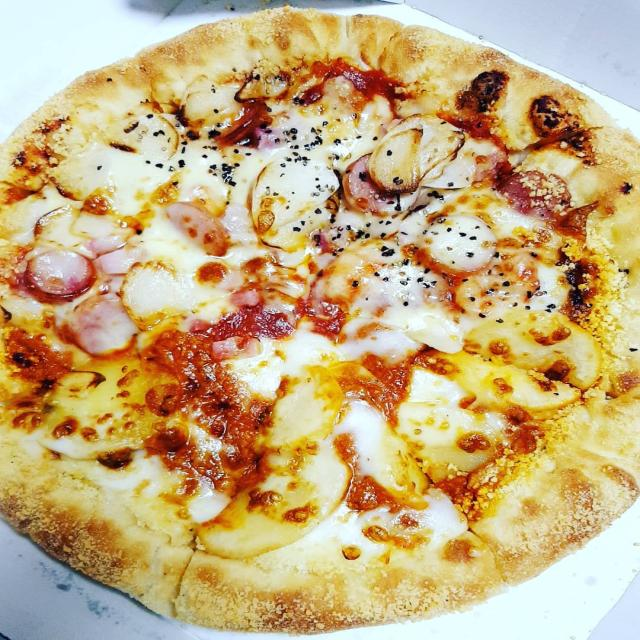pizza: (0, 7, 639, 634)
